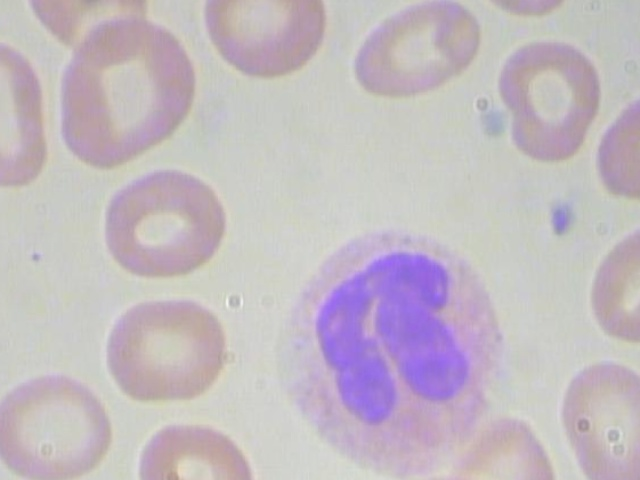Platelets: (543, 197, 589, 242)
RBC: (53, 17, 201, 174), (481, 32, 621, 161), (93, 159, 233, 288), (97, 284, 237, 413), (349, 0, 489, 107), (0, 367, 116, 480), (192, 0, 332, 82), (562, 352, 640, 480), (583, 217, 640, 347), (596, 81, 640, 208), (453, 0, 593, 19)
WBC: (262, 209, 514, 478)
